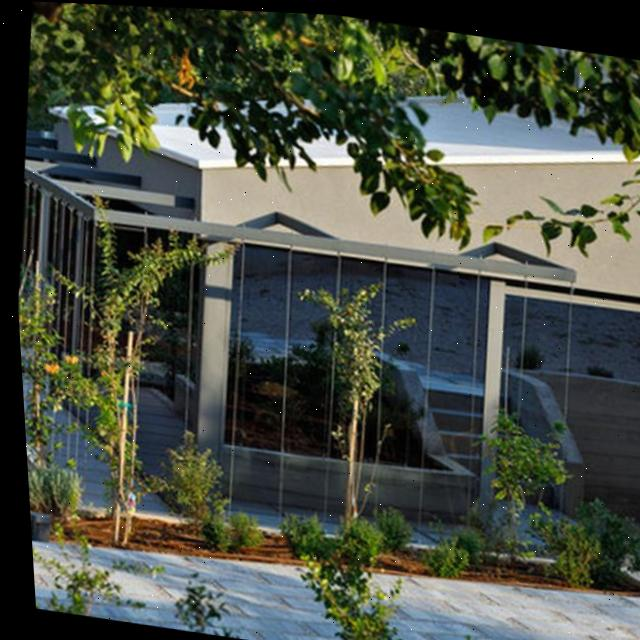building: (2, 28, 640, 576)
